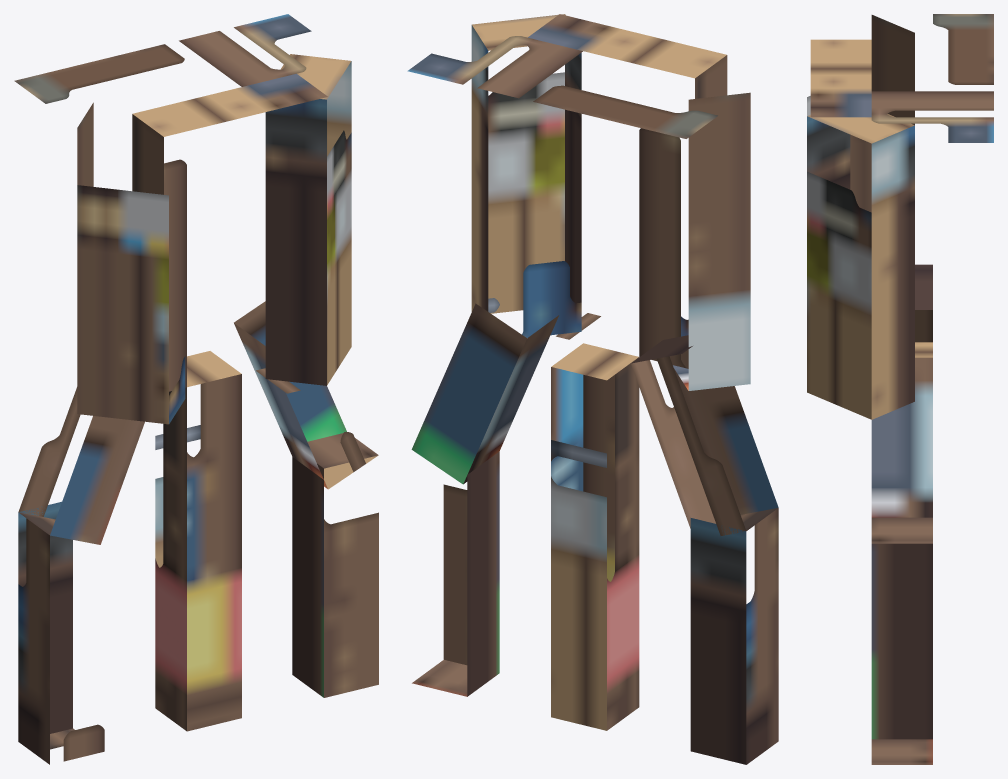
File: tranzistor_item.fbx
3 views of the same model, side by side, from view 1: azimuth 30°, elevation 25°; view 2: azimuth 150°, elevation 25°; view 3: azimuth 270°, elevation 25° (orthographic). The views are drawn at different scales.
Parts seen in each view (by area): view 1: cube, cube.004, cube.003, cube.007, cube.005, cube.001, cube.006, cube.002, cube.008; view 2: cube, cube.004, cube.005, cube.003, cube.001, cube.006, cube.008, cube.007, cube.002; view 3: cube.004, cube.007, cube.001, cube.008, cube.002, cube.003, cube.006.
Part boxes in pixels (left/top/right/bottom): cube: left=155, top=351, right=241, bottom=731; cube.004: left=265, top=54, right=351, bottom=385; cube.003: left=77, top=102, right=185, bottom=424; cube.007: left=292, top=433, right=378, bottom=697; cube.005: left=18, top=501, right=104, bottom=764; cube.001: left=14, top=14, right=311, bottom=391; cube.006: left=18, top=387, right=144, bottom=544; cube.002: left=132, top=73, right=327, bottom=393; cube.008: left=234, top=301, right=378, bottom=489; cube: left=551, top=343, right=639, bottom=730; cube.004: left=471, top=14, right=581, bottom=337; cube.005: left=690, top=508, right=778, bottom=764; cube.003: left=673, top=92, right=750, bottom=390; cube.001: left=407, top=36, right=717, bottom=368; cube.006: left=631, top=335, right=778, bottom=535; cube.008: left=411, top=303, right=558, bottom=484; cube.007: left=412, top=451, right=499, bottom=696; cube.002: left=528, top=14, right=727, bottom=339; cube.004: left=807, top=114, right=914, bottom=419; cube.007: left=871, top=517, right=932, bottom=764; cube.001: left=871, top=14, right=993, bottom=142; cube.008: left=871, top=357, right=932, bottom=517; cube.002: left=810, top=39, right=871, bottom=212; cube.003: left=807, top=15, right=914, bottom=125; cube.006: left=915, top=264, right=932, bottom=342.
Size of the model in its own units: 37.5 by 68.75 by 19.13.
